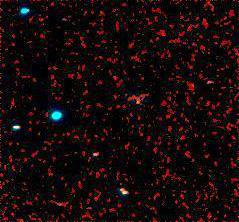star: (129, 84, 159, 114)
